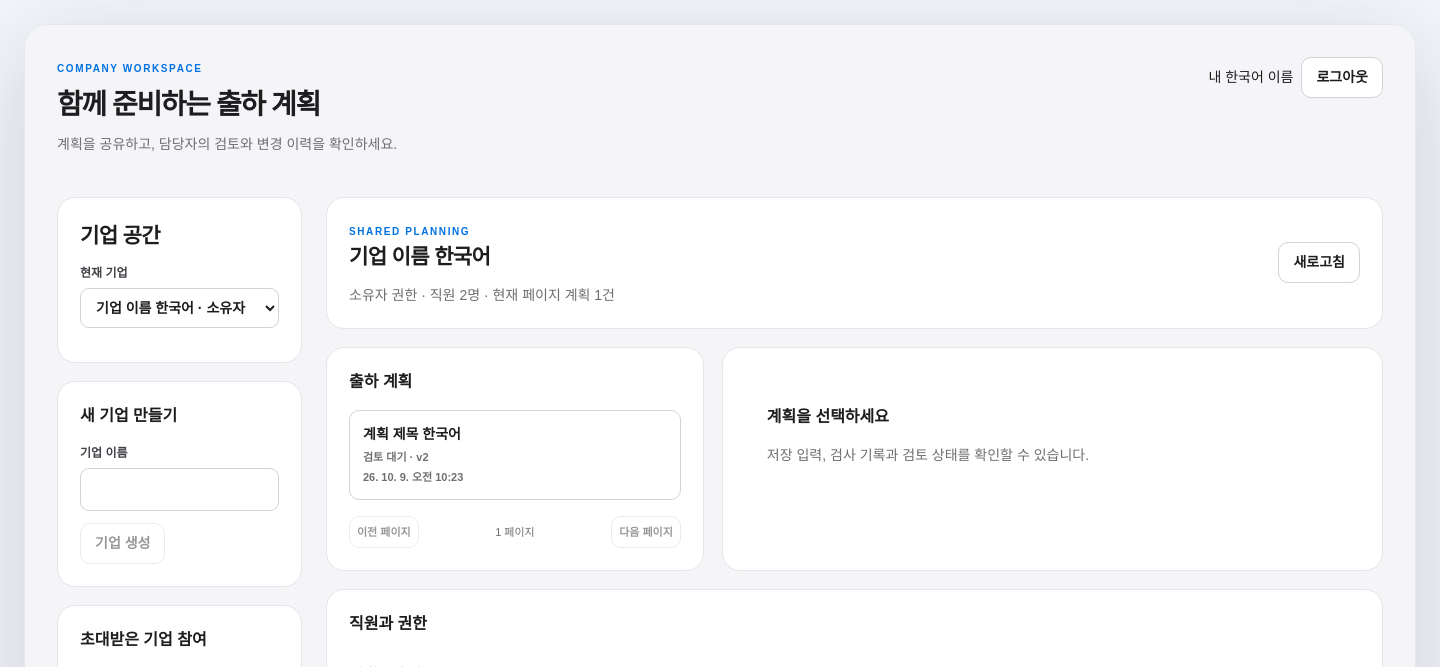
Test: preserves approval safety gates for what-if through live language switches
Click the button that starts with "계획 제목 한국어": (412, 434) [349,410,681,500]
(page scrolled)
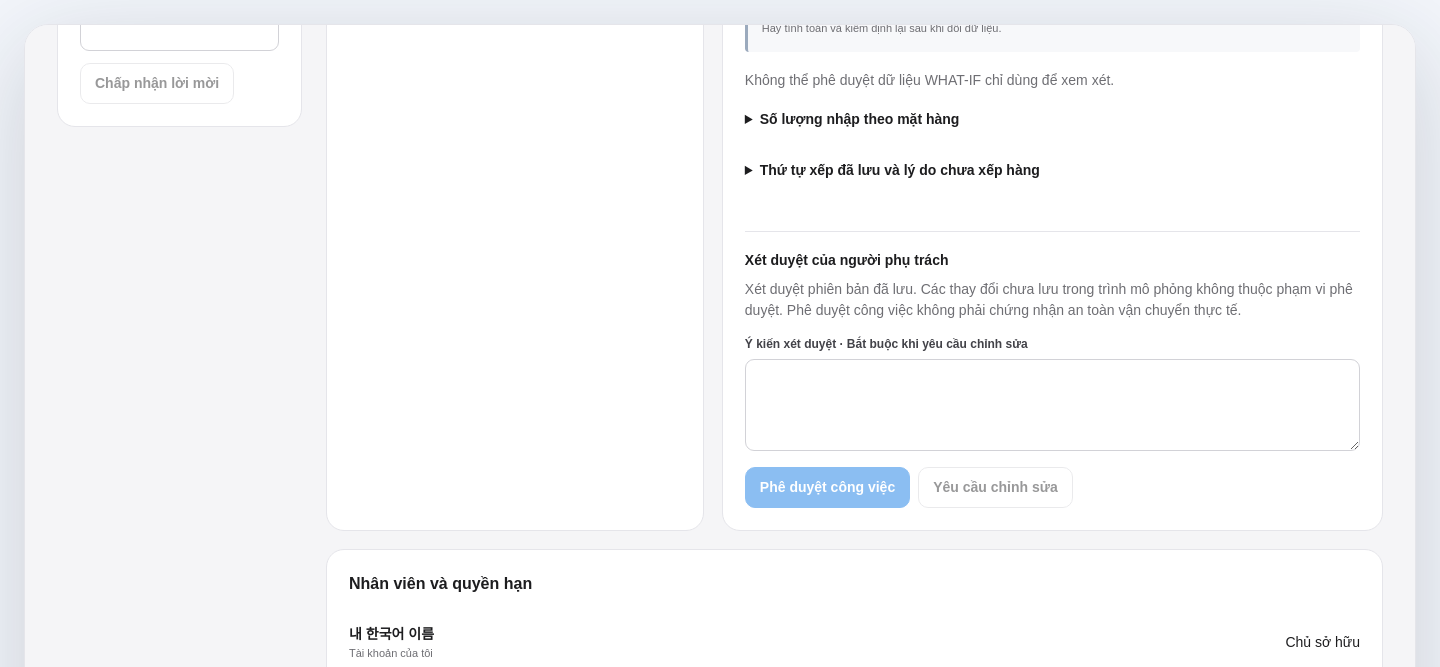
Result: the button "Phê duyệt công việc" is disabled at [745,467,910,508]
Result: the text box labelled "Ý kiến xét duyệt · Bắt buộc khi yêu cầu chỉnh sửa" is enabled at [745,359,1360,451]
